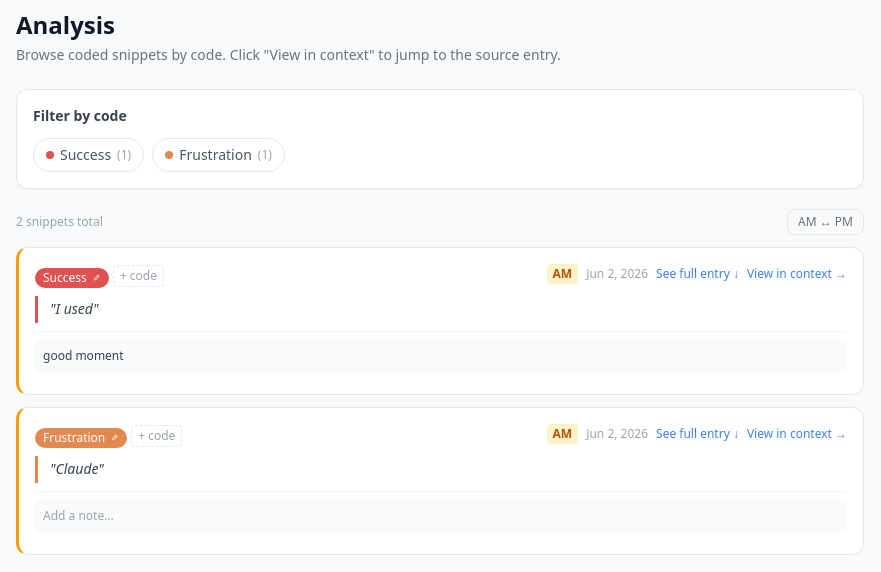
Test: AnalysisView – basic filtering › clears the filter when Clear is clicked
What coordinates should you click on to do the following:
click the button "Success (1)"
I would click on:
 (89, 155)
Its box is [33, 138, 144, 172].
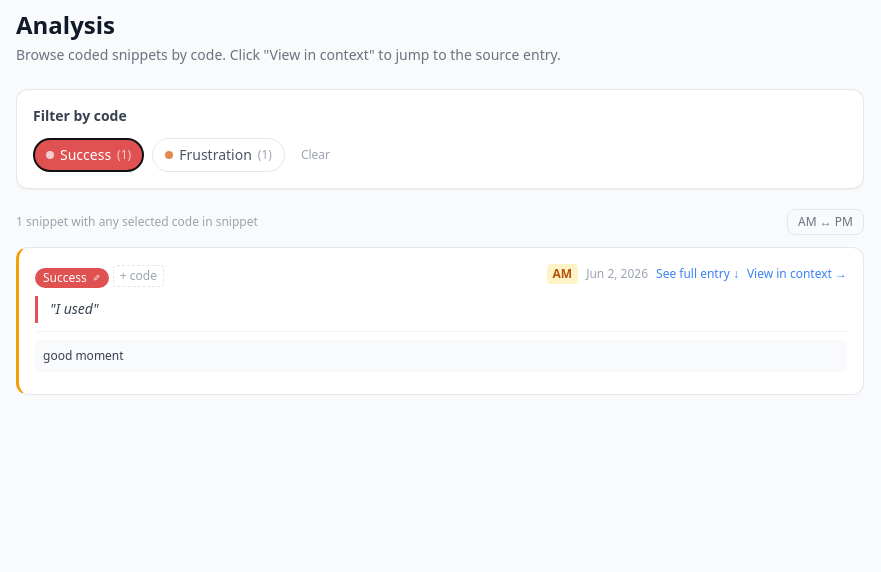
What coordinates should you click on to do the following:
click the button "Clear"
I would click on:
 (315, 155)
Its box is [293, 138, 338, 172].
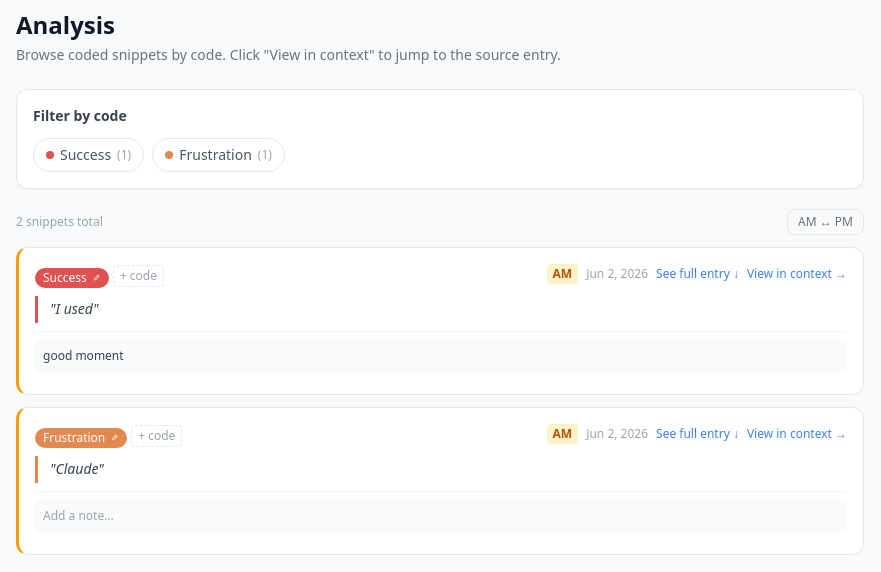
Check: the text "2 snippets total" is shown, box [16, 214, 103, 230]
